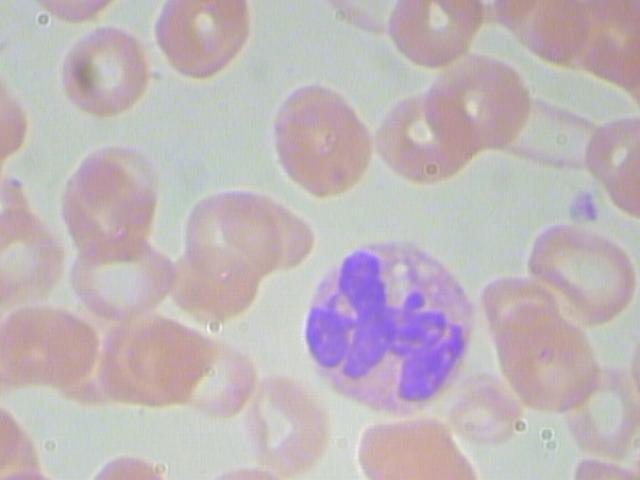RBC: (257, 79, 381, 198), (511, 220, 638, 331), (175, 187, 292, 291), (422, 47, 538, 151), (62, 222, 178, 326), (47, 24, 159, 123), (238, 373, 332, 480), (152, 1, 259, 87), (349, 414, 481, 478), (556, 357, 639, 454), (384, 1, 486, 68)
WBC: (286, 233, 491, 423)
